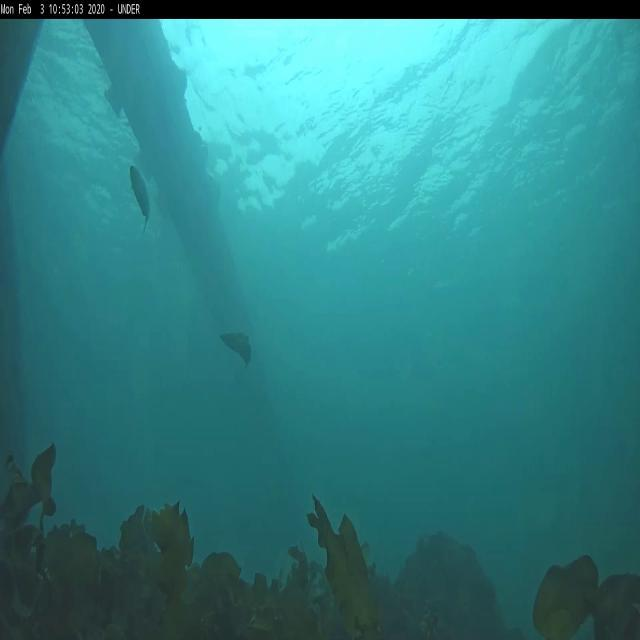fish: (129, 163, 152, 229), (218, 327, 252, 370)
